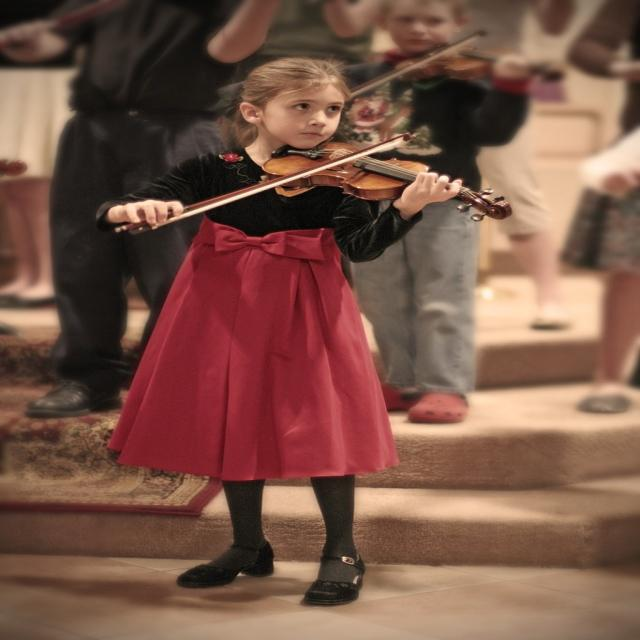violin: (252, 140, 522, 227), (387, 46, 567, 86)
